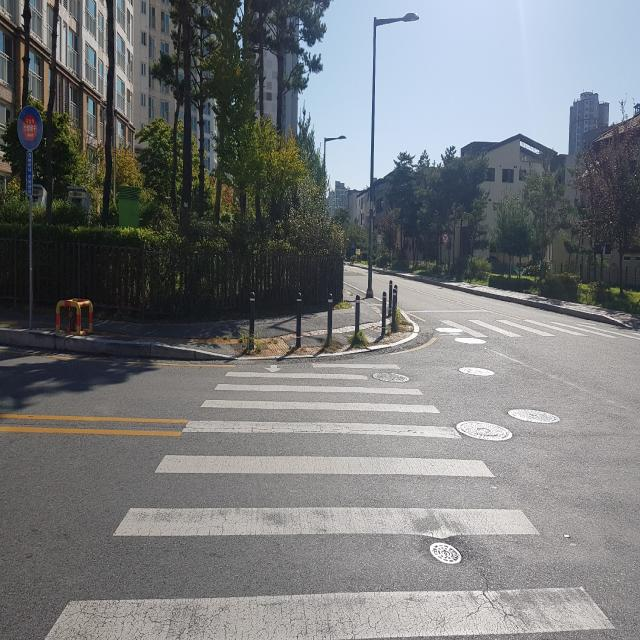횡단보도: (41, 360, 618, 640), (435, 313, 616, 338)
